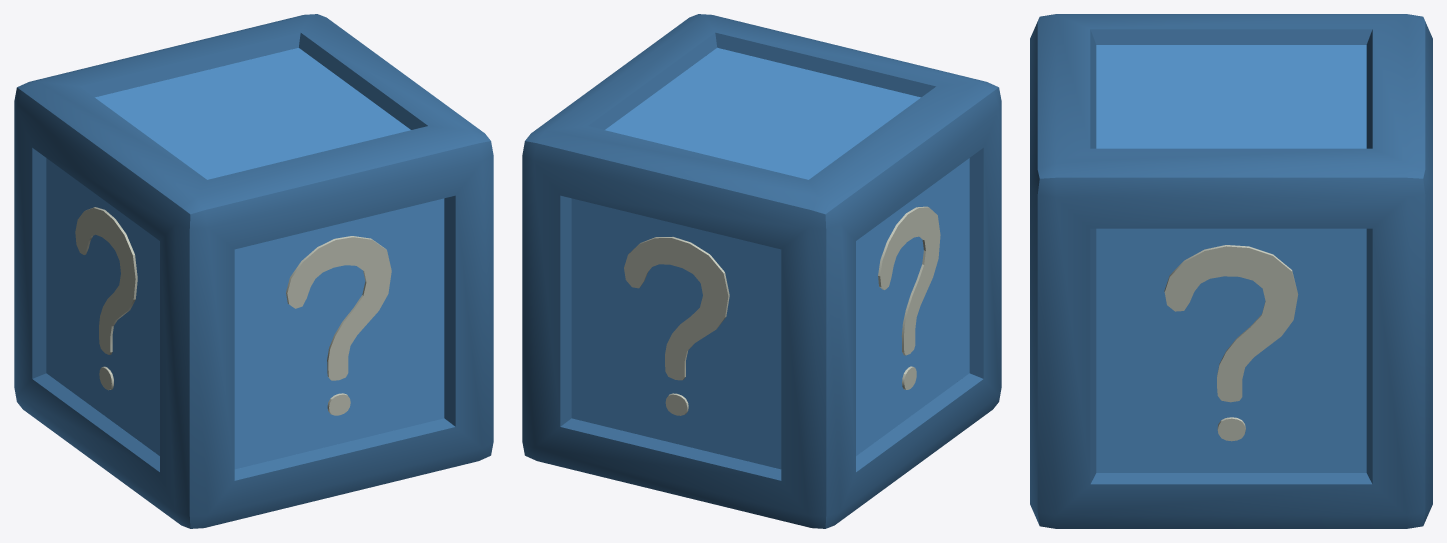
Rendered from Cube_Question.glb.
3 views of the same model, side by side, from view 1: azimuth 30°, elevation 25°; view 2: azimuth 150°, elevation 25°; view 3: azimuth 270°, elevation 25° (orthographic). The views are drawn at different scales.
Visible parts, largest first — view 1: Cube_Question; view 2: Cube_Question; view 3: Cube_Question.
Boxes of the visible parts, x1,y1,x2,y2 form: Cube_Question: (14, 14, 493, 528); Cube_Question: (522, 14, 1001, 528); Cube_Question: (1030, 14, 1432, 528).
Size of the model in its own units: 2.02 by 2.02 by 2.02.
